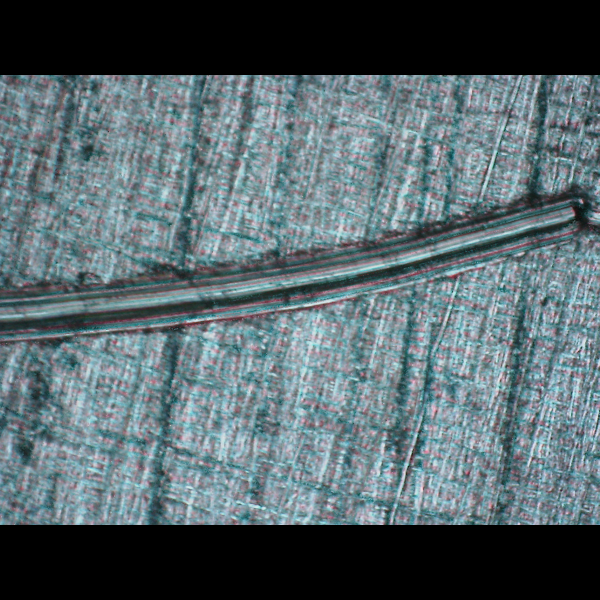d: (0, 181, 597, 352)
